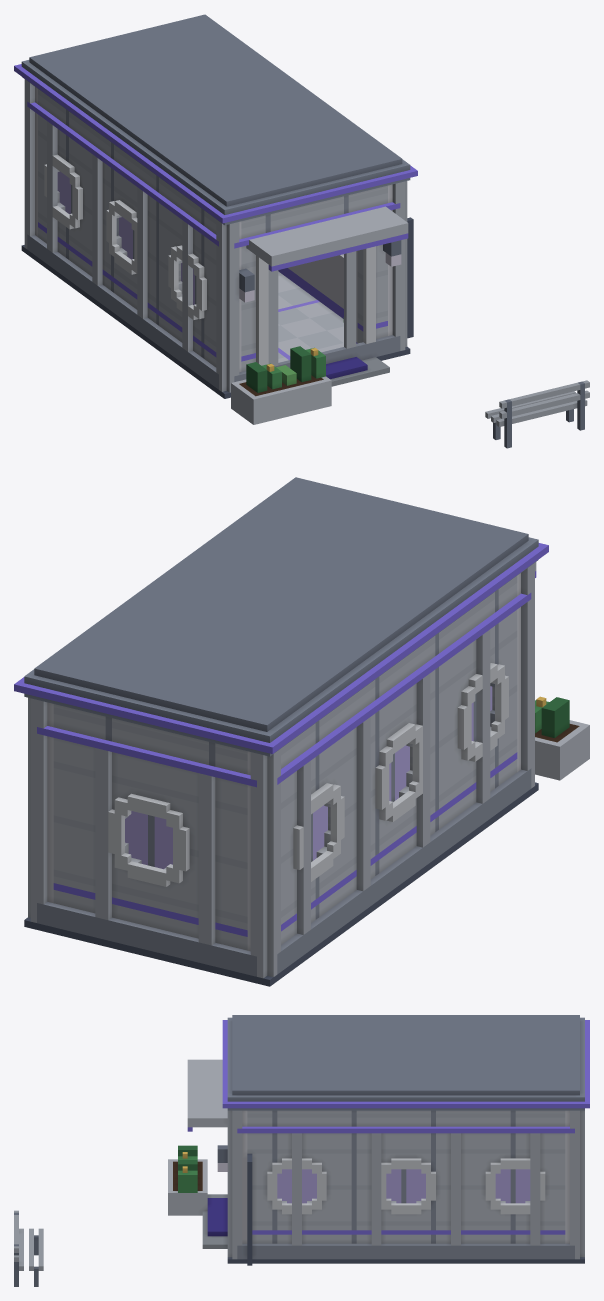
3 views of the same model, one above another, from view 1: azimuth 30°, elevation 25°; view 2: azimuth 150°, elevation 25°; view 3: azimuth 270°, elevation 25° (orthographic). The views are drawn at different scales.
Visible parts, largest first — view 1: CutRoof, Base, CutNX, CutPZ, CutNZ; view 2: CutRoof, CutNZ, Base, CutNX, CutPZ; view 3: CutRoof, CutPX, Base, CutPZ, CutNZ.
Part boxes in pixels (left/top/right/bottom): CutRoof: left=14, top=14, right=417, bottom=225; Base: left=21, top=202, right=589, bottom=448; CutNX: left=27, top=89, right=218, bottom=336; CutPZ: left=216, top=181, right=413, bottom=346; CutNZ: left=24, top=79, right=37, bottom=206; CutRoof: left=14, top=477, right=548, bottom=756; CutNZ: left=28, top=697, right=280, bottom=917; Base: left=24, top=696, right=589, bottom=986; CutNX: left=277, top=576, right=531, bottom=904; CutPZ: left=517, top=562, right=536, bottom=731; CutRoof: left=222, top=1015, right=589, bottom=1110; CutPX: left=237, top=1110, right=574, bottom=1218; Base: left=14, top=1145, right=584, bottom=1286; CutPZ: left=187, top=1059, right=252, bottom=1224; CutNZ: left=565, top=1110, right=584, bottom=1218.
Bounding box in the file's own units: 5.1 × 3.8 × 11.6.
